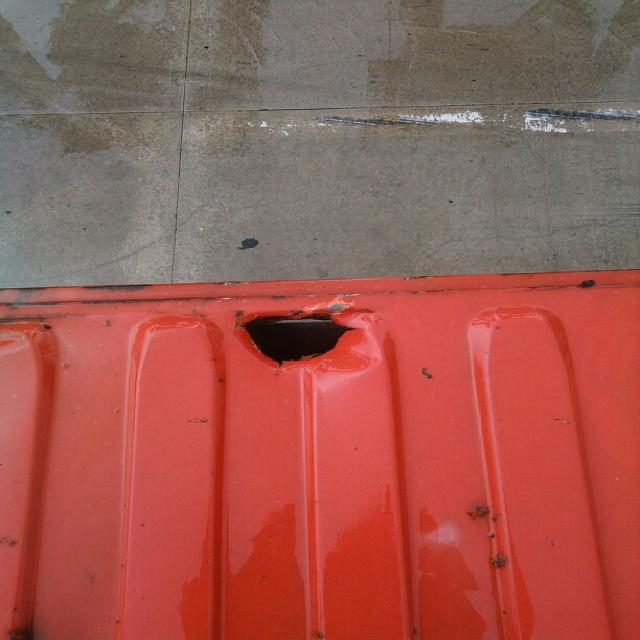hole: (235, 308, 382, 380)
